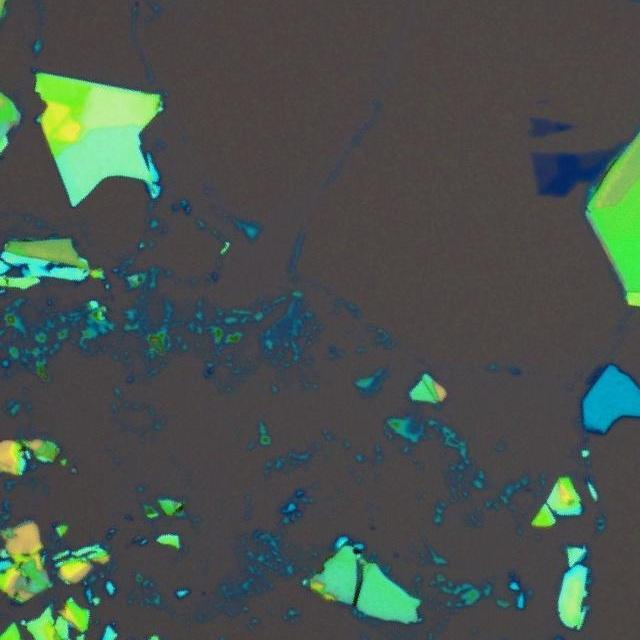monolayer-eWW4: (529, 149, 558, 192), (578, 150, 615, 172), (527, 117, 557, 135)
